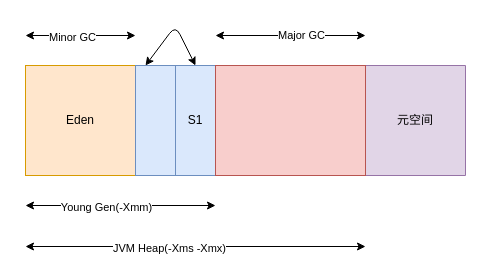
This 483x273 diagram has some shape labels left out. The shapes that lost their labels are listed below. From the top down, each one's centre as x and y in pixels, then its label:
the point at 155,120: S0
the point at 290,120: Old Memory
